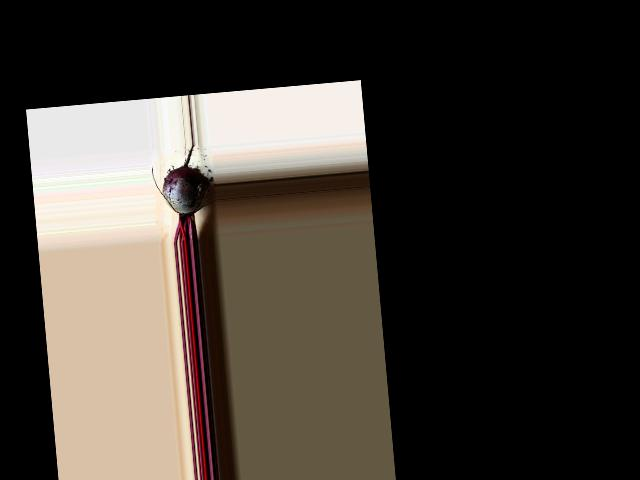beet: (150, 143, 213, 243)
